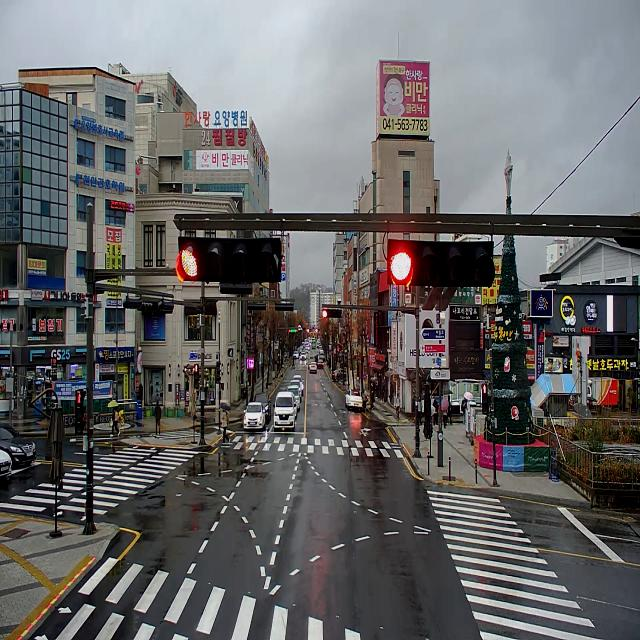Bus: (312, 338, 316, 349)
Car: (0, 423, 36, 466), (273, 392, 296, 430), (243, 402, 266, 430), (254, 393, 271, 423), (0, 448, 12, 478), (344, 390, 362, 410), (288, 385, 300, 408), (293, 374, 304, 396), (290, 380, 302, 398), (332, 368, 346, 381), (293, 392, 298, 418), (308, 356, 315, 370), (309, 362, 317, 372), (317, 359, 324, 369), (300, 352, 306, 360), (319, 352, 325, 359), (294, 352, 298, 358)
